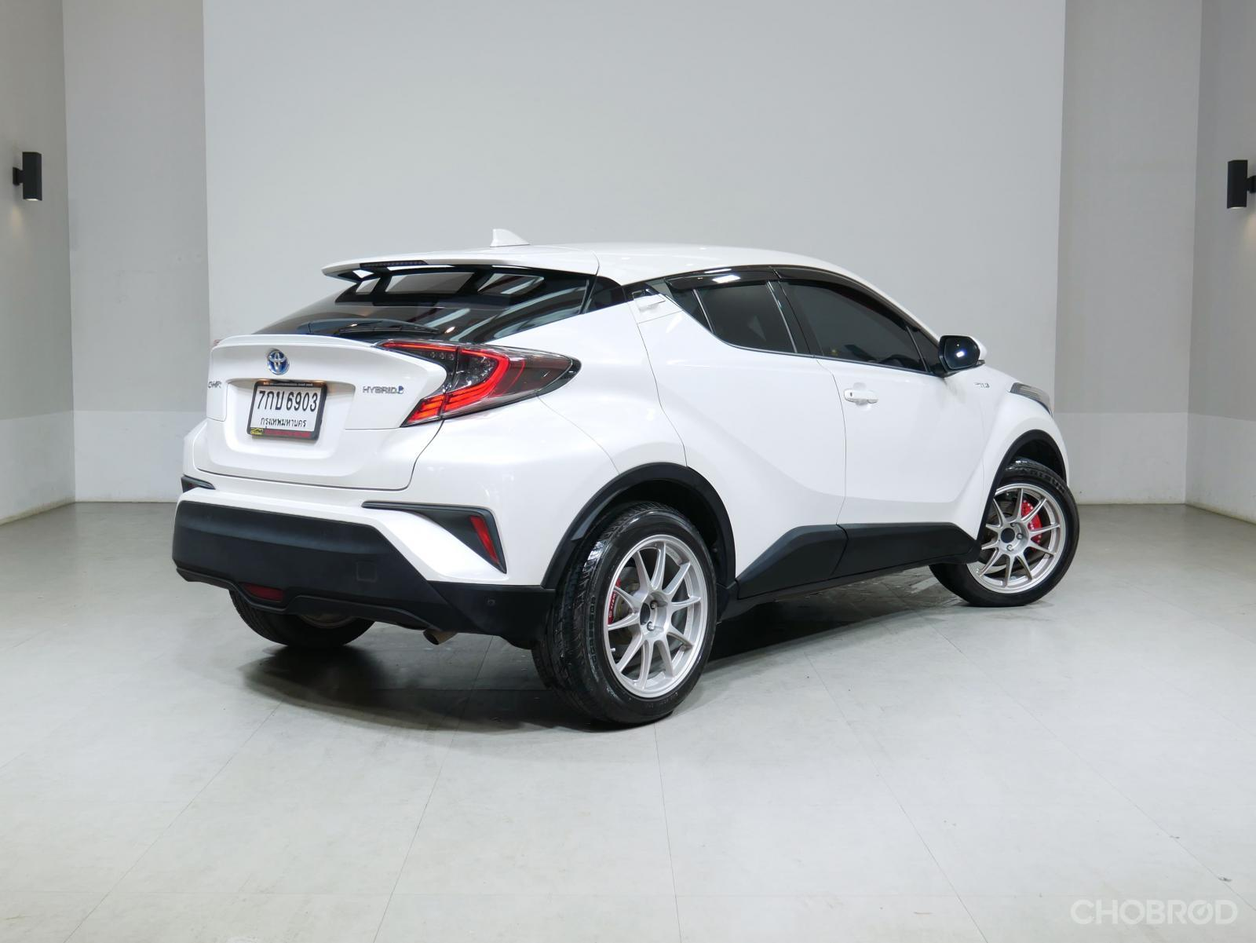license-plate: (227, 377, 347, 451)
